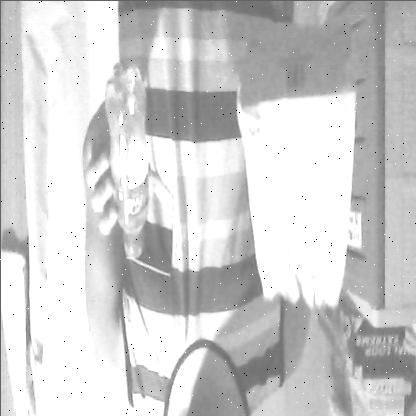Plastic Bottle: (97, 59, 157, 268)
